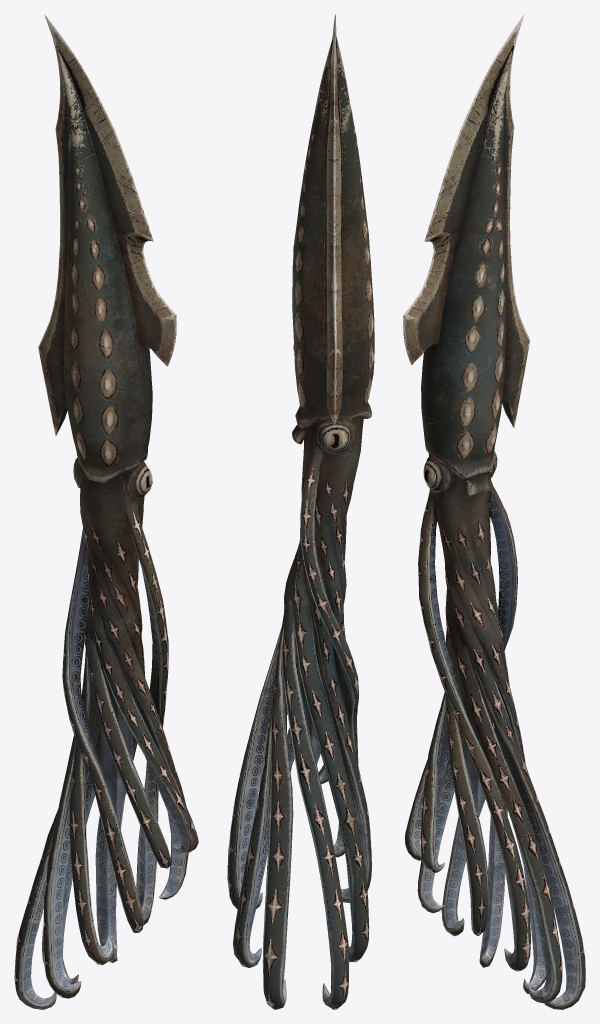
The model's file is rod002.obj.
3 views of the same model, side by side, from view 1: azimuth 30°, elevation 25°; view 2: azimuth 150°, elevation 25°; view 3: azimuth 270°, elevation 25° (orthographic). The views are drawn at different scales.
Visible parts, largest first — view 1: rod002_000_LOD_1, rod002_001_LOD_1; view 2: rod002_000_LOD_1, rod002_001_LOD_1; view 3: rod002_000_LOD_1, rod002_001_LOD_1.
Part boxes in pixels (<box>): rod002_000_LOD_1: <box>14,14,198,1009</box>; rod002_001_LOD_1: <box>100,661,132,817</box>; rod002_000_LOD_1: <box>227,14,374,1009</box>; rod002_001_LOD_1: <box>300,606,327,764</box>; rod002_000_LOD_1: <box>403,14,585,1009</box>; rod002_001_LOD_1: <box>463,660,493,816</box>.
Bounding box in the file's own units: 54.91 × 373 × 63.08.
